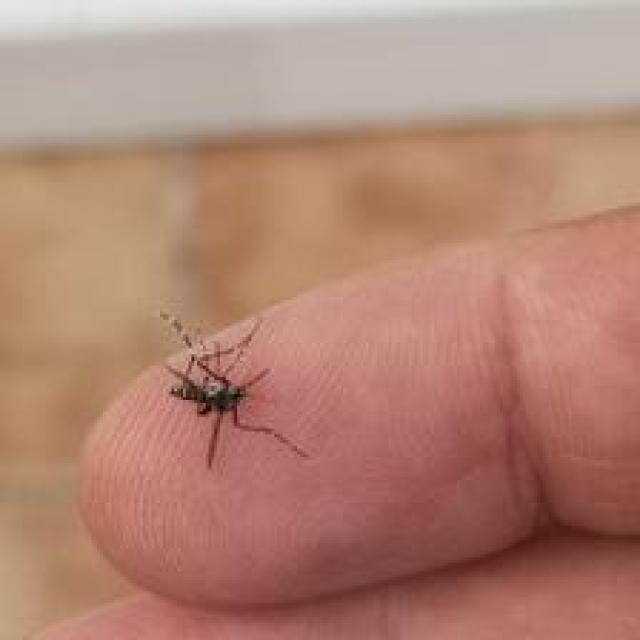Aedes albopictus: (157, 310, 309, 470)
